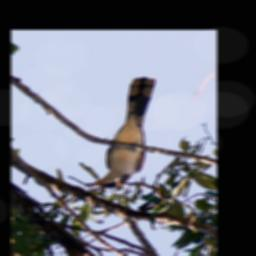Cuckoo: (85, 75, 159, 189)
